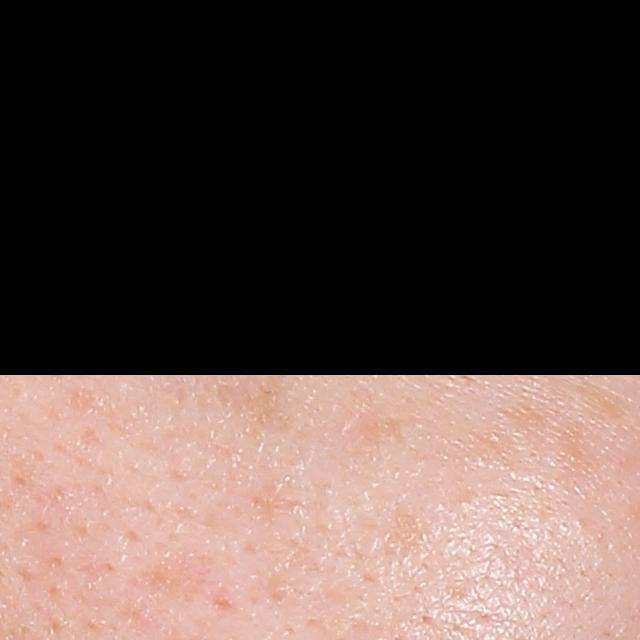melasma: (212, 365, 314, 438), (117, 555, 216, 608), (569, 371, 629, 425), (350, 413, 414, 453), (493, 402, 550, 444), (387, 507, 429, 558)
